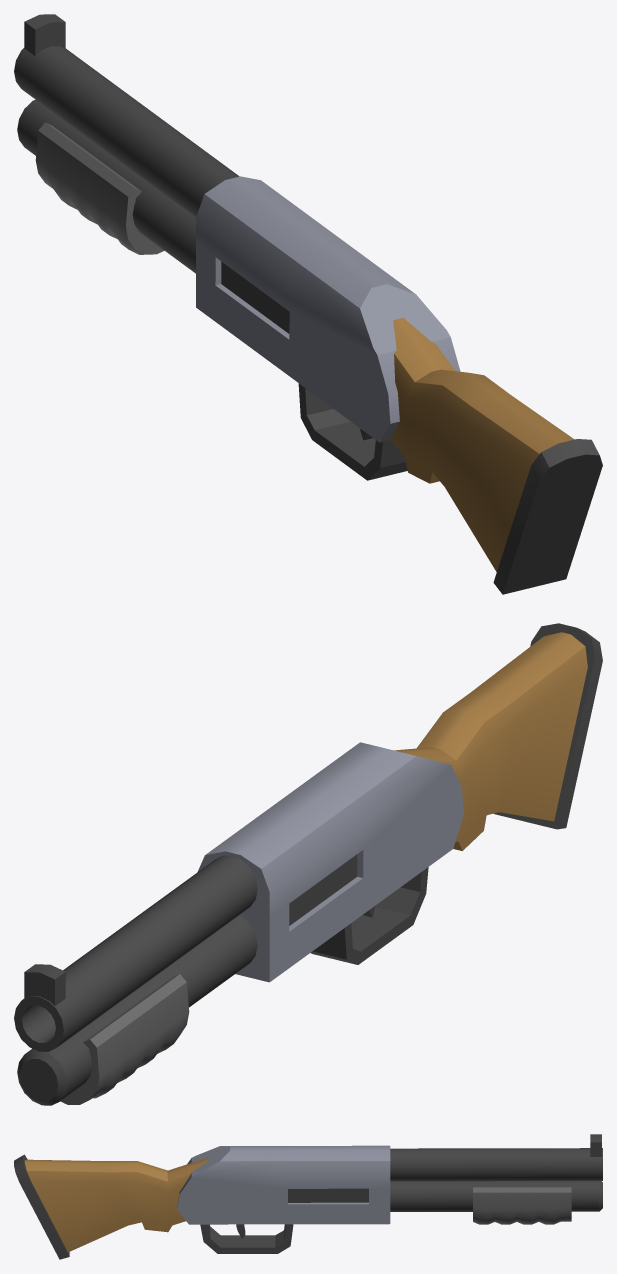
Rendered from shotgun.glb.
The picture shows the model from 3 angles, top to bottom: view 1: azimuth 30°, elevation 25°; view 2: azimuth 150°, elevation 25°; view 3: azimuth 270°, elevation 25°; orthographic projection. The views are drawn at different scales.
Parts seen in each view (by area): view 1: Baked_Shotgun; view 2: Baked_Shotgun; view 3: Baked_Shotgun.
Boxes of the visible parts, left/top/right/bottom form: Baked_Shotgun: left=14, top=14, right=602, bottom=594; Baked_Shotgun: left=14, top=623, right=602, bottom=1105; Baked_Shotgun: left=14, top=1134, right=602, bottom=1259.
Size of the model in its own units: 0.0695 by 0.1896 by 0.88.
